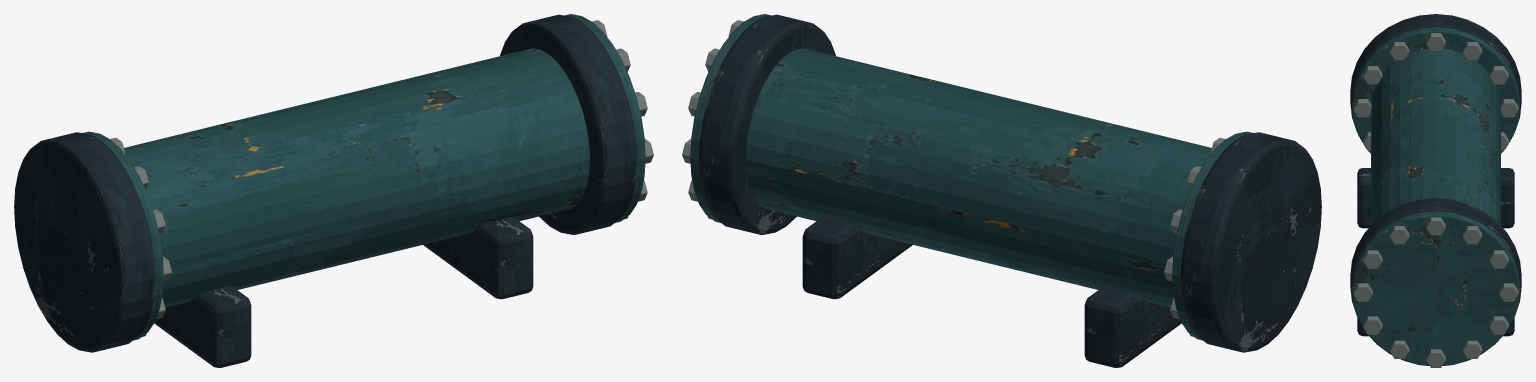
File: pipe-straight.glb
3 views of the same model, side by side, from view 1: azimuth 30°, elevation 25°; view 2: azimuth 150°, elevation 25°; view 3: azimuth 270°, elevation 25° (orthographic). The views are drawn at different scales.
Parts seen in each view (by area): view 1: pipe-straight__pipe-straight__petrol, pipe-straight__pipe-straight__steel, pipe-straight__pipe-straight__hardware; view 2: pipe-straight__pipe-straight__petrol, pipe-straight__pipe-straight__steel, pipe-straight__pipe-straight__hardware; view 3: pipe-straight__pipe-straight__petrol, pipe-straight__pipe-straight__steel, pipe-straight__pipe-straight__hardware.
Boxes of the visible parts, left/top/right/bottom form: pipe-straight__pipe-straight__petrol: left=82, top=14, right=645, bottom=340; pipe-straight__pipe-straight__steel: left=14, top=14, right=636, bottom=367; pipe-straight__pipe-straight__hardware: left=92, top=14, right=653, bottom=336; pipe-straight__pipe-straight__petrol: left=690, top=14, right=1253, bottom=340; pipe-straight__pipe-straight__steel: left=699, top=14, right=1321, bottom=367; pipe-straight__pipe-straight__hardware: left=682, top=14, right=1243, bottom=336; pipe-straight__pipe-straight__petrol: left=1352, top=27, right=1519, bottom=365; pipe-straight__pipe-straight__steel: left=1350, top=14, right=1521, bottom=336; pipe-straight__pipe-straight__hardware: left=1353, top=33, right=1518, bottom=367.
Size of the model in its own units: 2.09 by 0.79 by 0.74.
3 materials, 2 textured.
